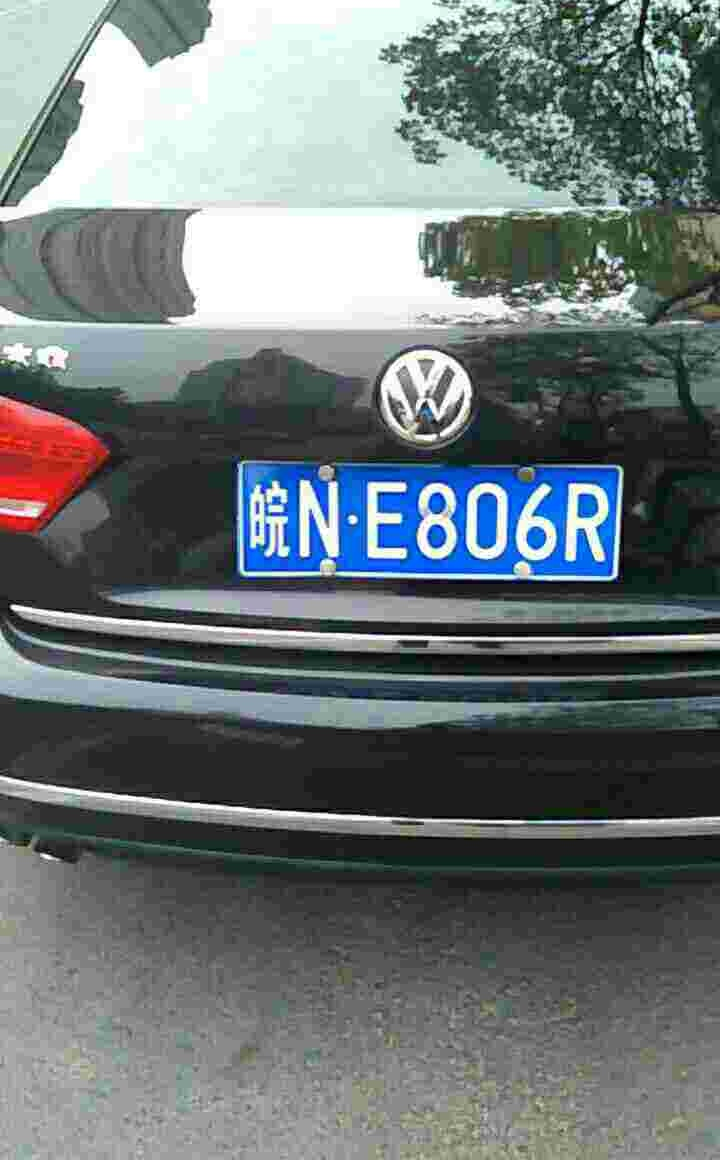car_blue: (234, 454, 627, 589)
